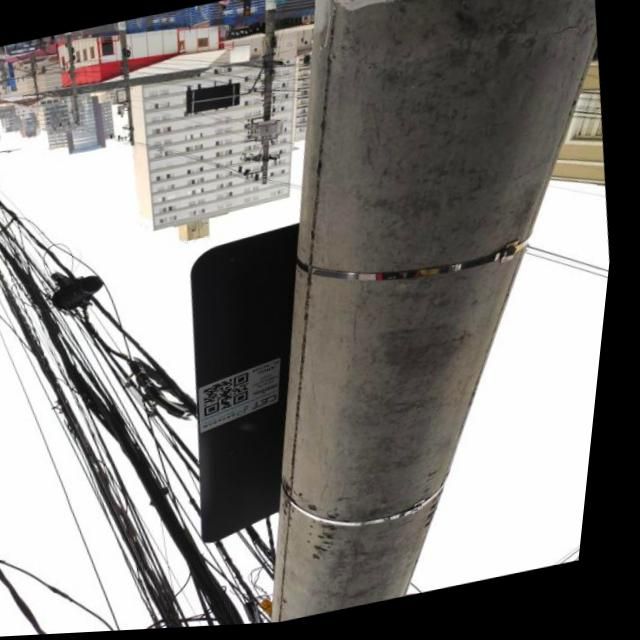qrcode: (208, 375, 262, 420)
